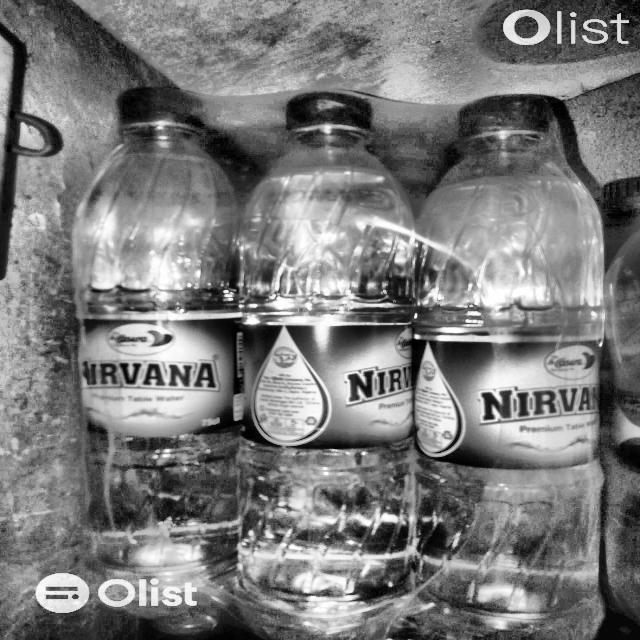waterbottle: (415, 94, 605, 640), (236, 90, 415, 640), (76, 87, 241, 616)
